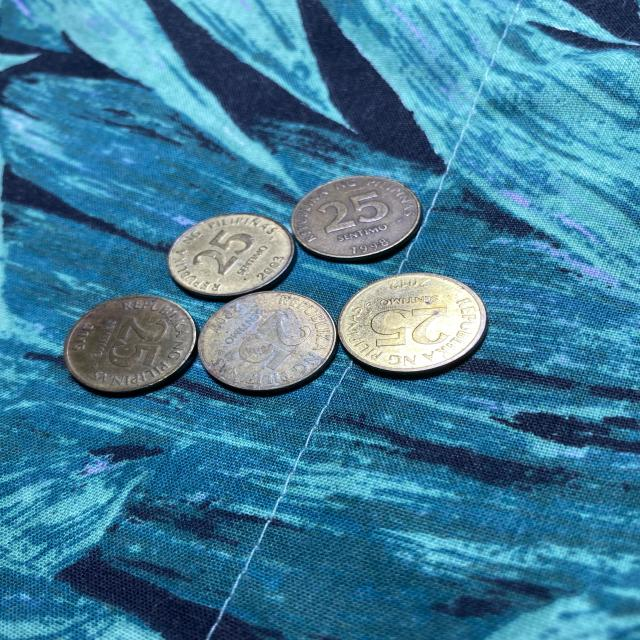25Cent_Old_Front: (235, 313, 316, 367), (105, 315, 169, 370), (368, 308, 453, 348), (319, 189, 390, 228), (195, 226, 252, 274)
